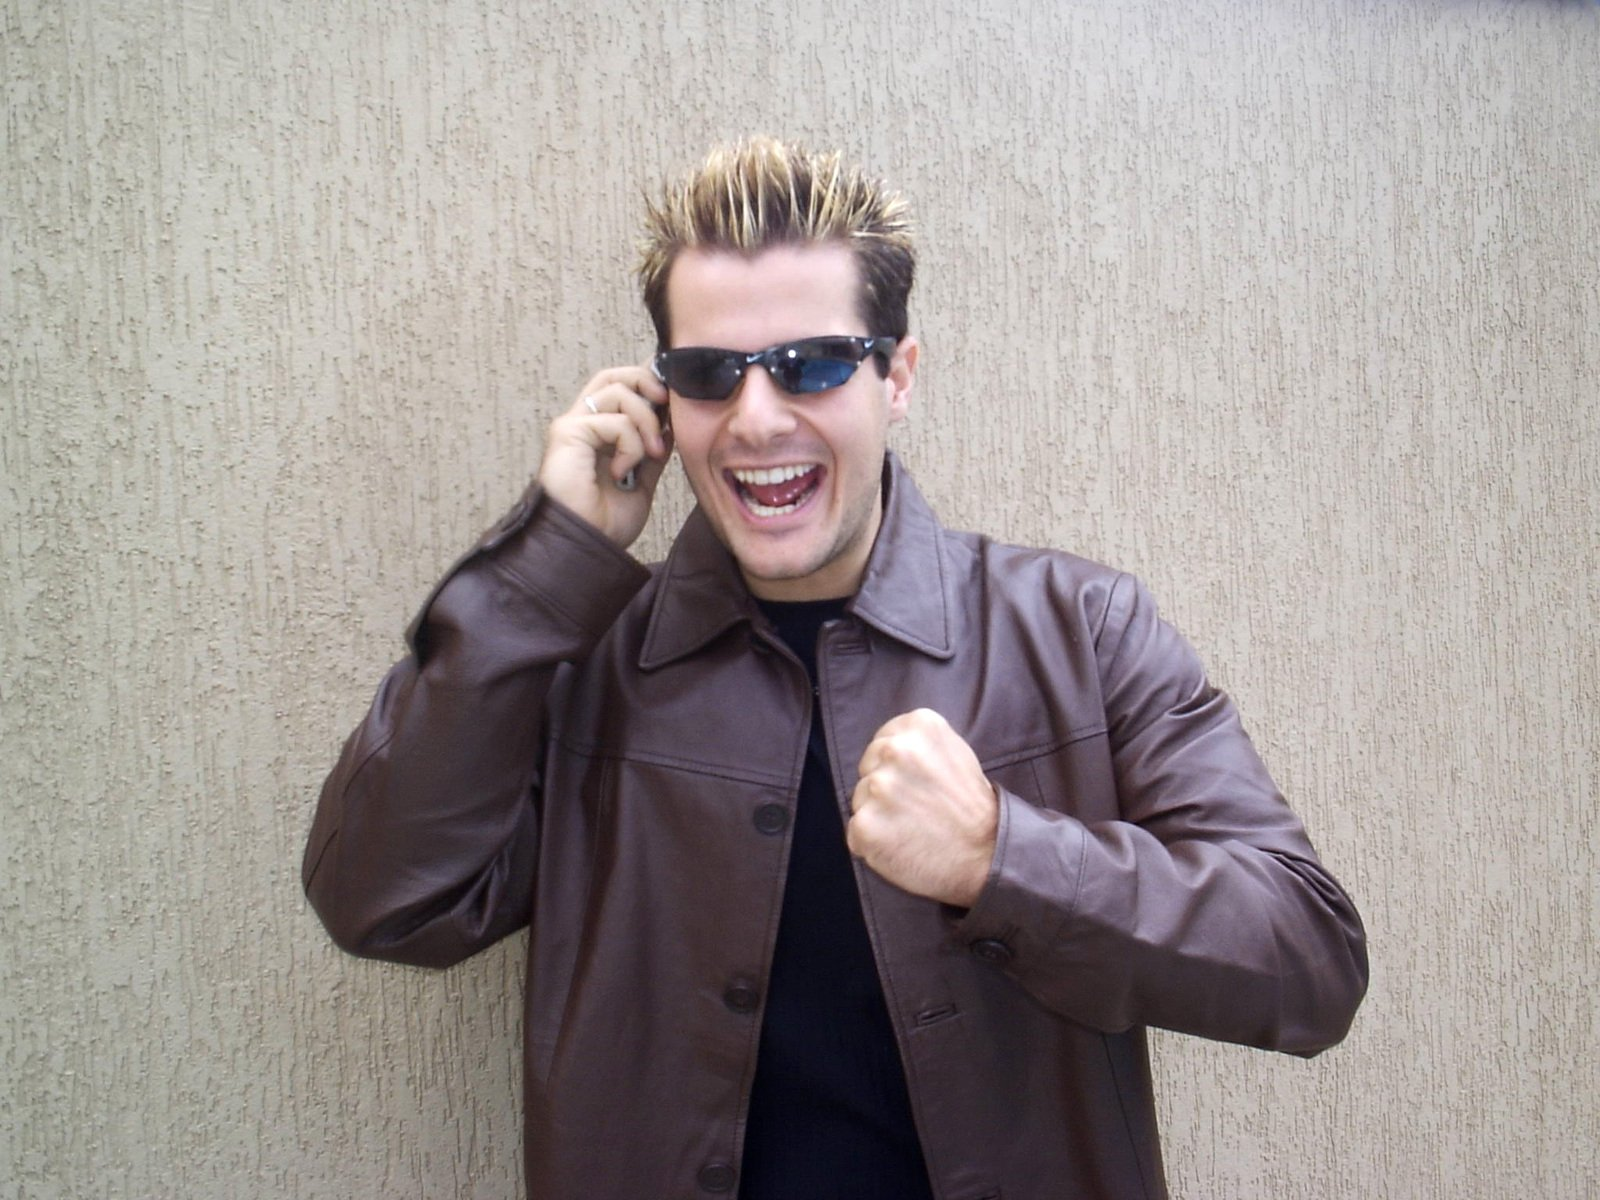phone: (576, 372, 695, 528)
talk: (532, 306, 882, 594)
